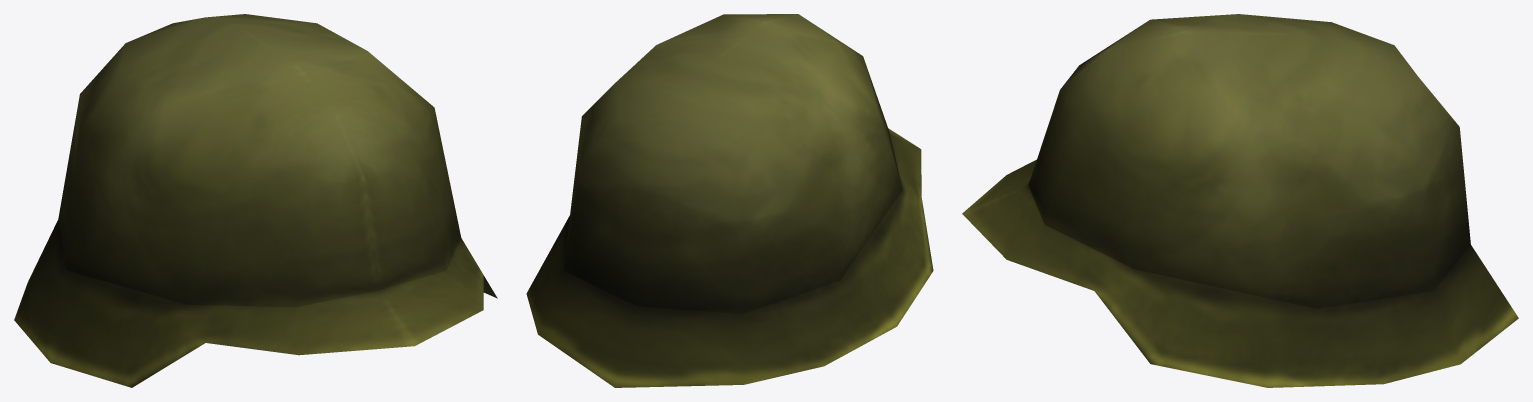
File: HelmetTan.fbx
3 views of the same model, side by side, from view 1: azimuth 30°, elevation 25°; view 2: azimuth 150°, elevation 25°; view 3: azimuth 270°, elevation 25° (orthographic). The views are drawn at different scales.
Parts seen in each view (by area): view 1: Helmet_Tan; view 2: Helmet_Tan; view 3: Helmet_Tan.
Part boxes in pixels (<box>): Helmet_Tan: <box>14,14,497,387</box>; Helmet_Tan: <box>526,14,933,387</box>; Helmet_Tan: <box>962,14,1518,387</box>.
Bounding box in the file's own units: 0.4723 × 0.3399 × 0.5985.
1 material, 1 textured.
